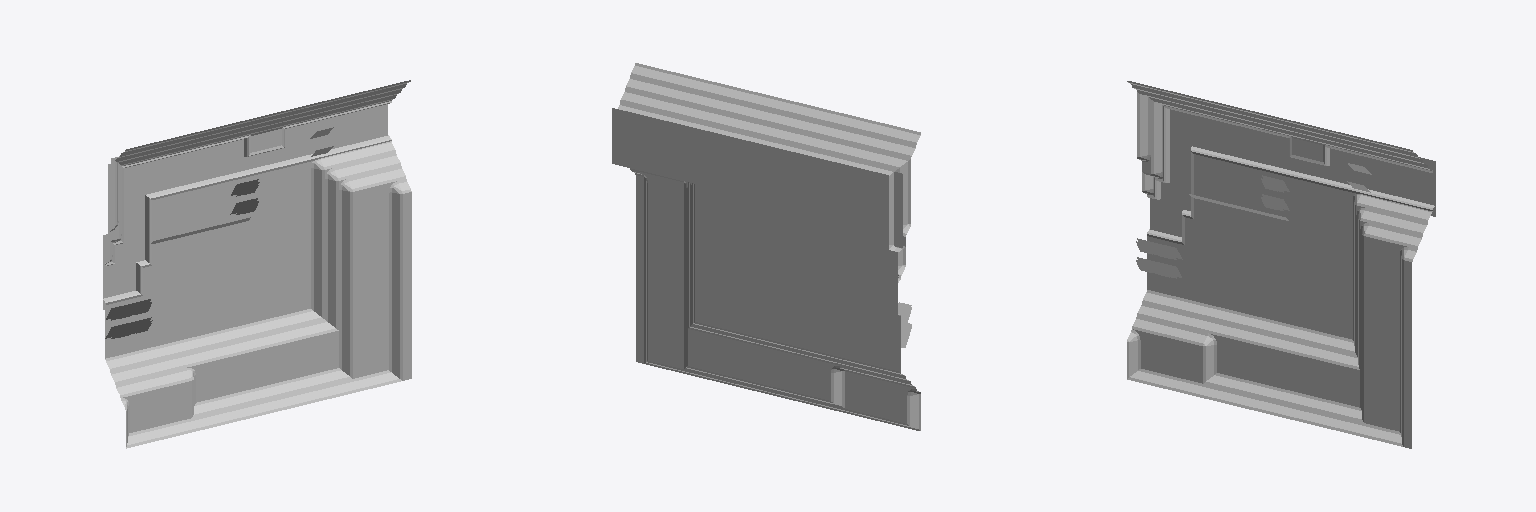
File: Plat_full_06_14.obj
3 views of the same model, side by side, from view 1: azimuth 30°, elevation 25°; view 2: azimuth 150°, elevation 25°; view 3: azimuth 330°, elevation 25° (orthographic).
Parts seen in each view (by area): view 1: map; view 2: map; view 3: map.
Part boxes in pixels (x1,y1,x2,y2): map: (103,80,411,448); map: (612,63,920,430); map: (1127,81,1435,448).
Bounding box in the file's own units: 32.25 × 32 × 4.5.